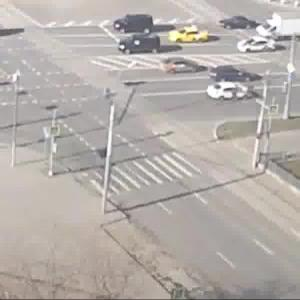car: (207, 78, 257, 100), (119, 32, 159, 58), (109, 11, 152, 34), (259, 16, 300, 40), (218, 18, 267, 37), (237, 35, 278, 55), (172, 59, 209, 80), (214, 67, 256, 84), (166, 32, 204, 48)
